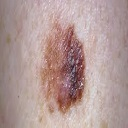Carcinoma: (42, 24, 85, 112)
